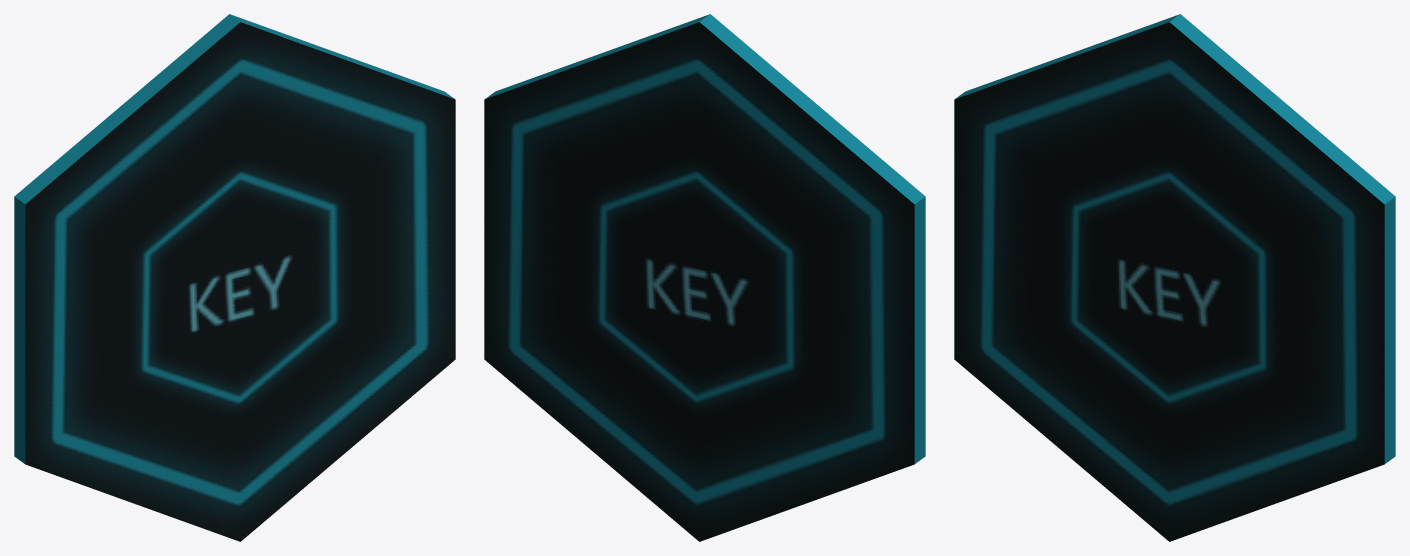
The model's file is key.fbx.
3 views of the same model, side by side, from view 1: azimuth 30°, elevation 25°; view 2: azimuth 150°, elevation 25°; view 3: azimuth 330°, elevation 25° (orthographic).
Visible parts, largest first — view 1: pCylinder1; view 2: pCylinder1; view 3: pCylinder1.
Boxes of the visible parts, left/top/right/bottom form: pCylinder1: left=14, top=14, right=455, bottom=541; pCylinder1: left=484, top=14, right=925, bottom=541; pCylinder1: left=954, top=14, right=1395, bottom=541.
Size of the model in its own units: 0.5196 by 0.6 by 0.023.
Materials: 1 (1 with a texture image).
